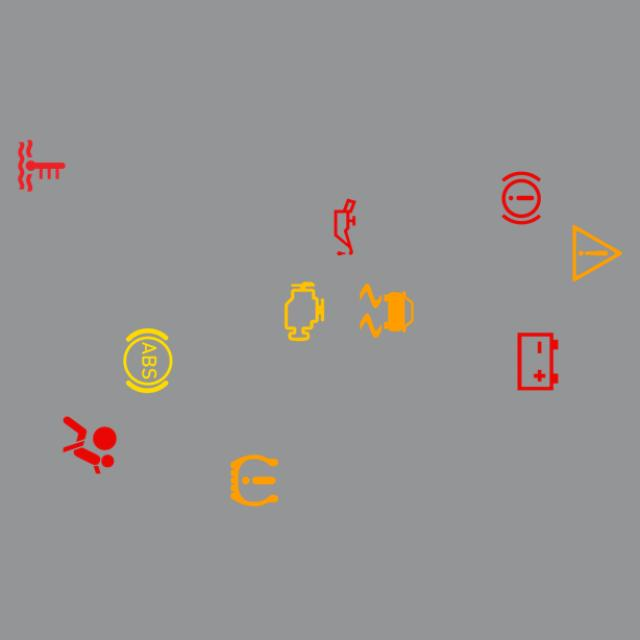Anti Lock Braking System: (112, 325, 184, 396)
Braking System Issue: (486, 162, 556, 234)
Charging System Issue: (502, 326, 574, 397)
Check Engine: (269, 276, 340, 347)
Electronic Stability Problem -ESP-: (351, 275, 422, 346)
Engine Overheating Warning Light: (6, 130, 77, 201)
Low Engine Oil Warning Light: (310, 192, 380, 262)
Low Tire Pressure Warning Light: (219, 445, 290, 516)
Master warning light: (562, 218, 633, 289)
SRS-Airbag: (54, 410, 125, 480)
